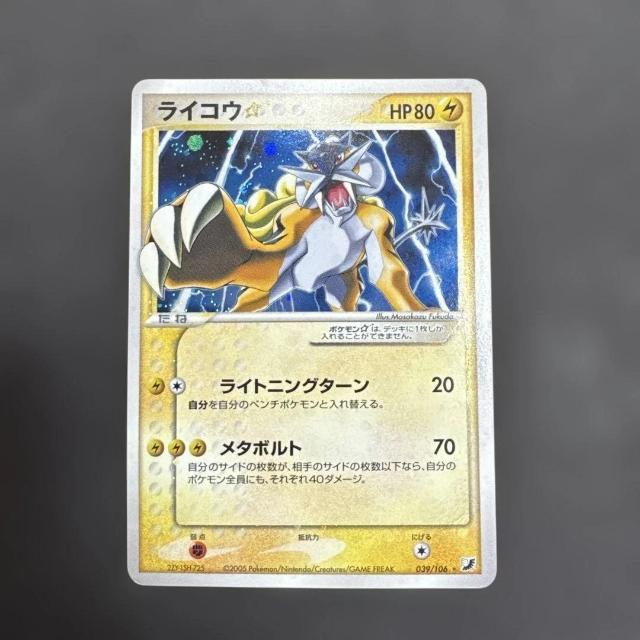Card: (123, 74, 502, 592)
Name: (149, 97, 282, 125)
